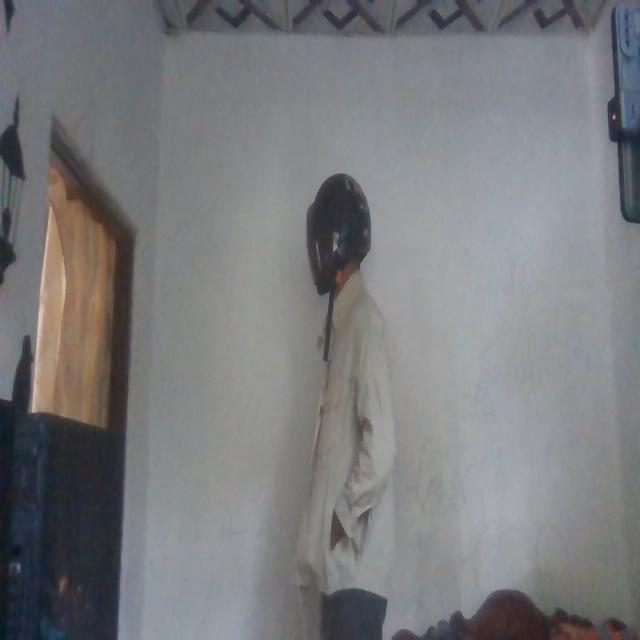Helmet_Wearer: (308, 170, 377, 286)
Jacket_Wearer: (301, 289, 405, 601)
Person: (295, 166, 405, 640)
